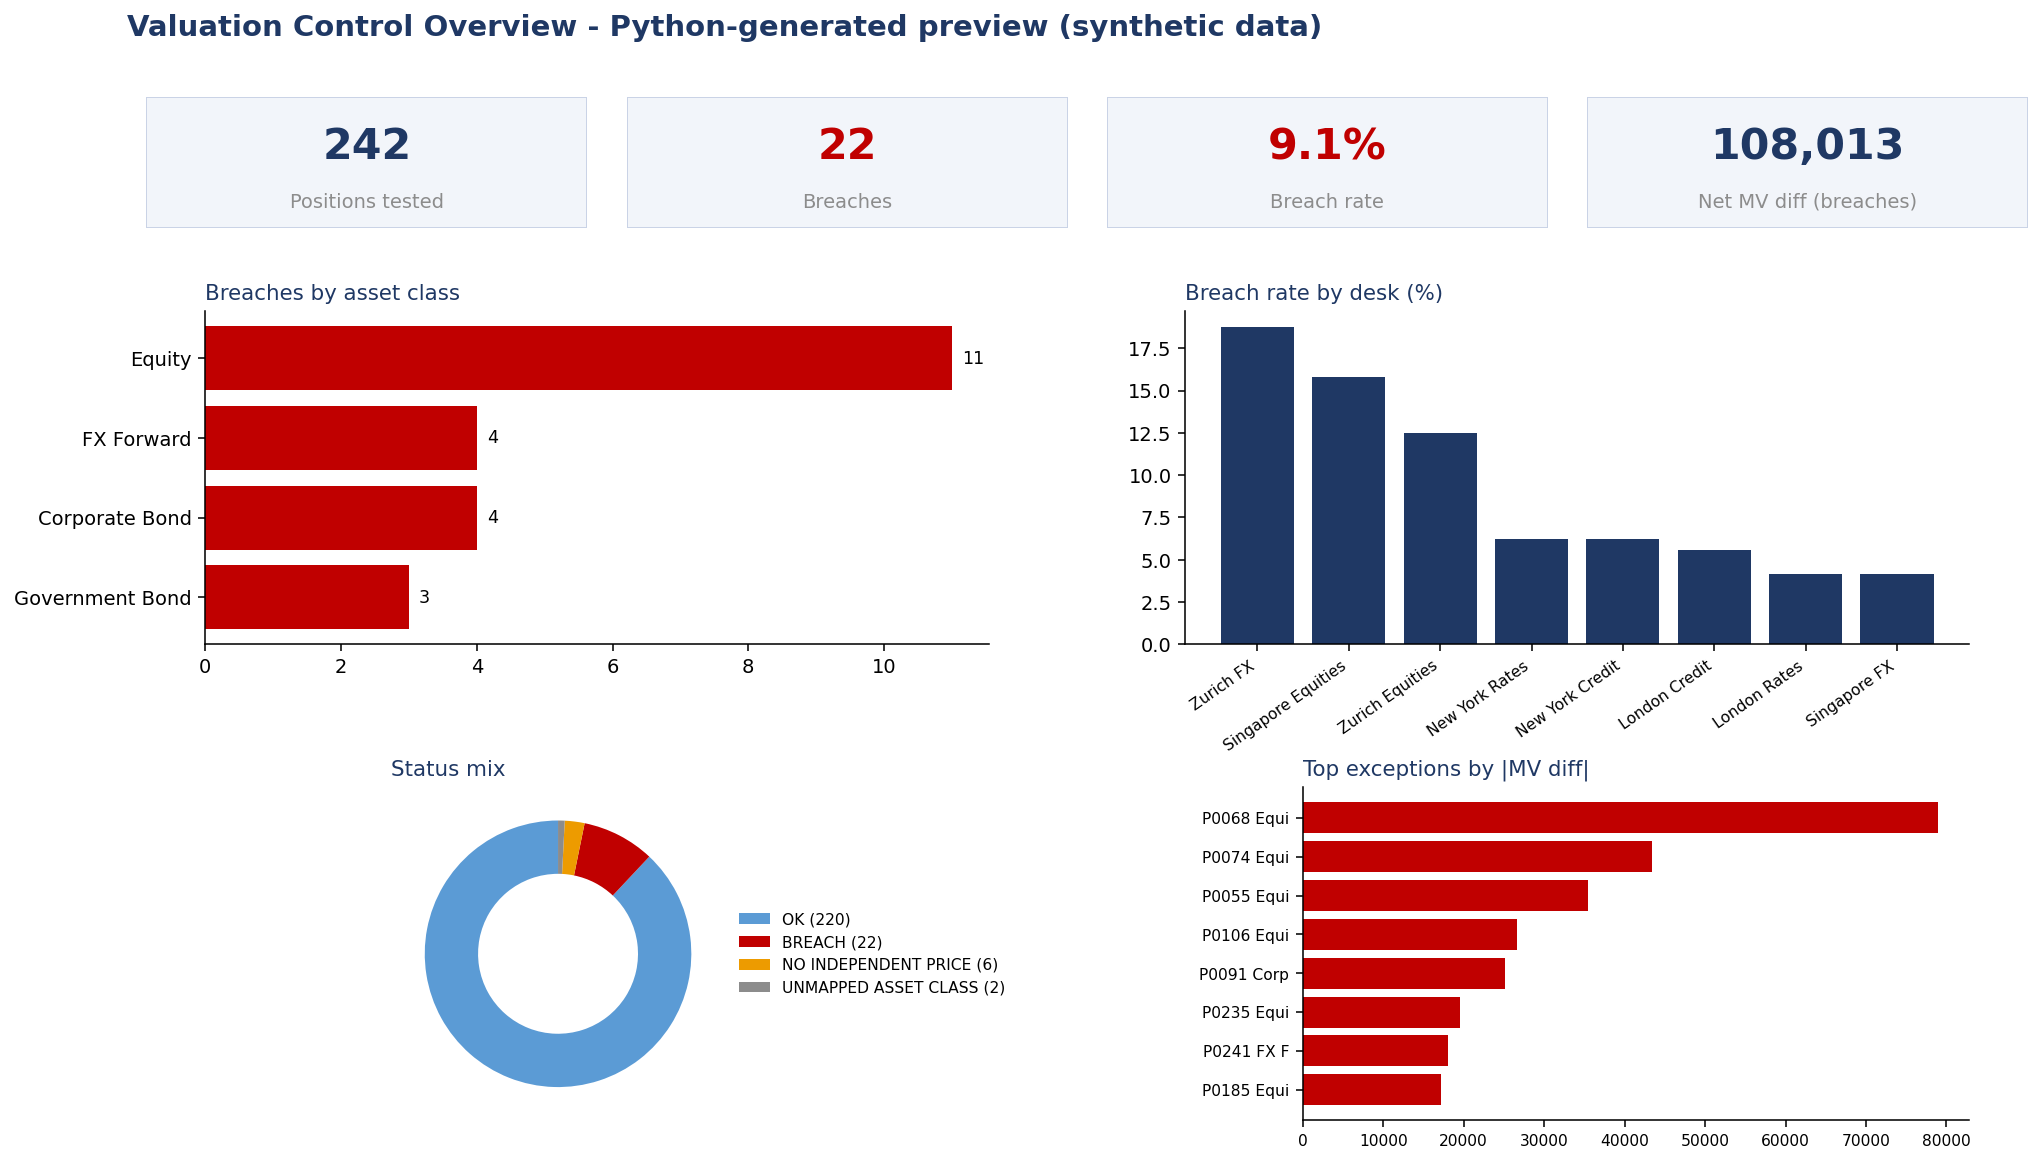

This screenshot's page, from the dashboard's own definition file:
{"tool":"powerbi","page":{"name":"Valuation Control Overview","canvas":[1920,1080],"ordinal":0},"visuals":[{"type":"cardVisual","fields":{"Data":["Positions.Positions Tested","Positions.Breach Count","Positions.Breach Rate","Positions.Net MV Diff (Breaches)"]},"box":[0,0,743.5,244.2],"z":0},{"type":"clusteredBarChart","fields":{"Category":["Positions.AssetClass"],"Y":["Positions.Breach Count"]},"box":[743.5,0,743.5,429],"z":1000},{"type":"clusteredColumnChart","fields":{"Category":["Positions.Desk"],"Y":["Positions.Breach Rate"]},"box":[0,244.2,743.5,409.2],"z":2000},{"type":"donutChart","fields":{"Category":["Positions.Status"],"Y":["Positions.Total Positions"]},"box":[0,654,744,426],"z":3000},{"type":"textbox","box":[744,429,744,224],"z":4000},{"type":"listSlicer","fields":{"Values":["Positions.AssetClass"]},"box":[744,654,744,426],"z":5000}]}

Visuals, with their boxes in screenshot pixels (x1, y1, x2, y2), scaled from the page's 1920x1080 canvas onto the 2042x1163 screenshot:
cardVisual - Positions.Positions Tested x Positions.Breach Count: select_region(0, 0, 791, 263)
clusteredBarChart - Positions.AssetClass x Positions.Breach Count: select_region(791, 0, 1581, 462)
clusteredColumnChart - Positions.Desk x Positions.Breach Rate: select_region(0, 263, 791, 704)
donutChart - Positions.Status x Positions.Total Positions: select_region(0, 704, 791, 1162)
textbox: select_region(791, 462, 1583, 703)
listSlicer - Positions.AssetClass: select_region(791, 704, 1583, 1162)
